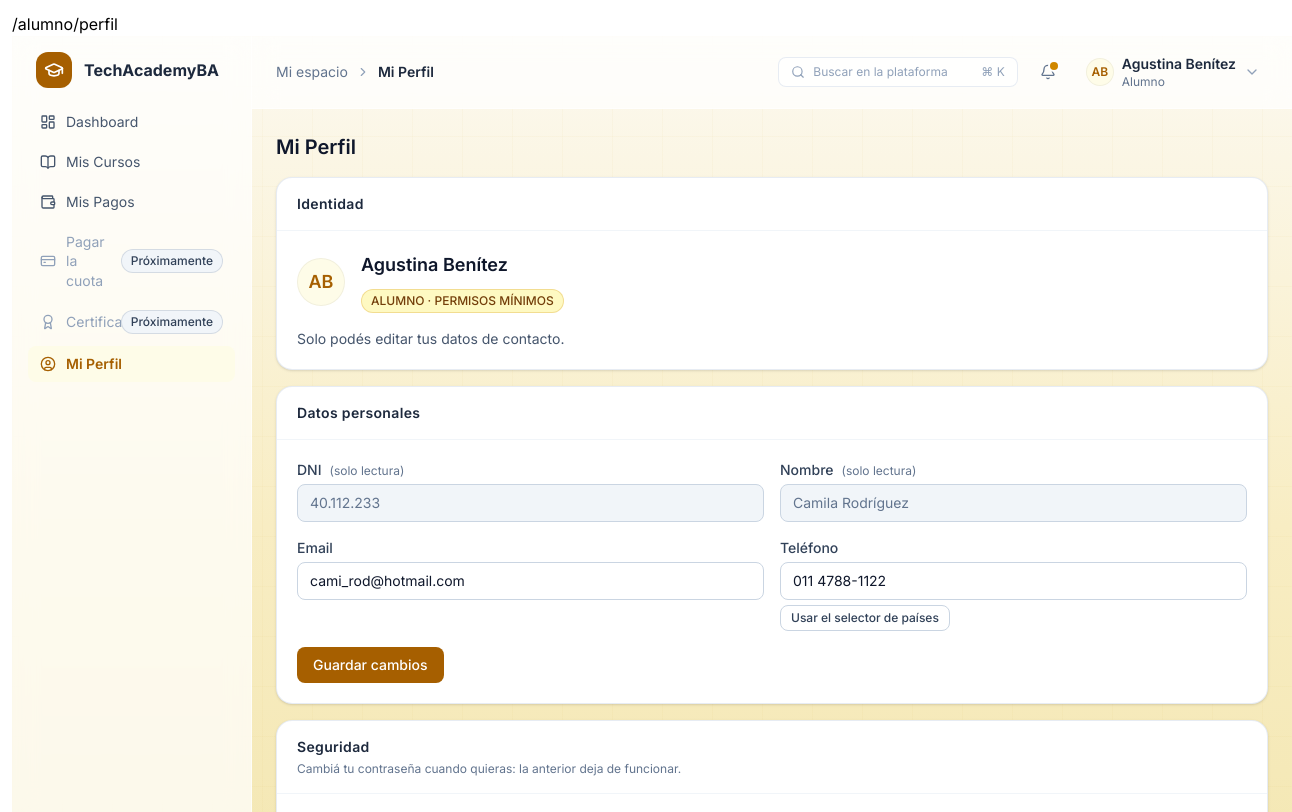
datos personales › marca el teléfono cuando todavía tiene el formato viejo del padrón
Expected: the heading "Mi Perfil" is shown, [276, 135, 356, 159]
Expected: the field showing "cami_rod@hotmail.com" is shown, [297, 562, 764, 600]
Click the button "Guardar cambios" at (370, 665), box [297, 647, 444, 683]
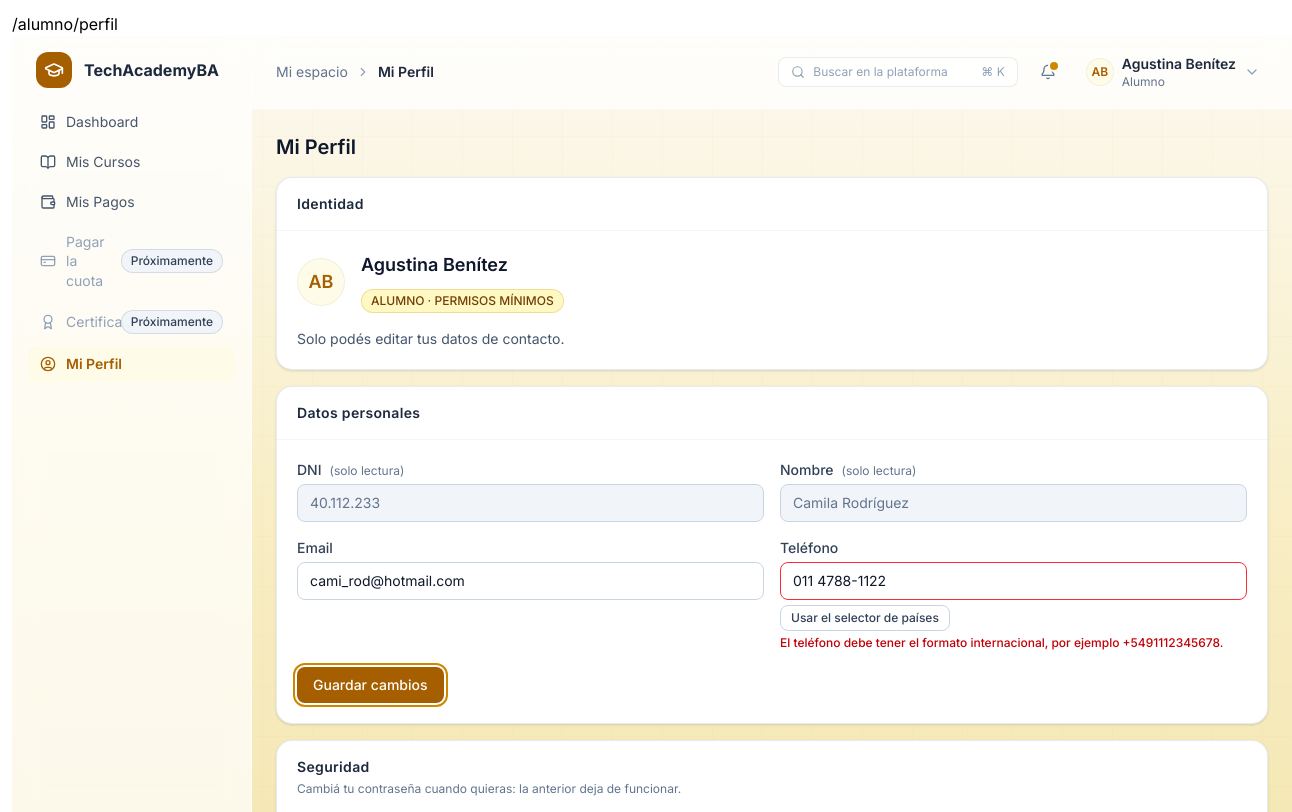
Result: the message shows "El teléfono debe tener el formato internacional" at [780, 635, 1223, 650]
